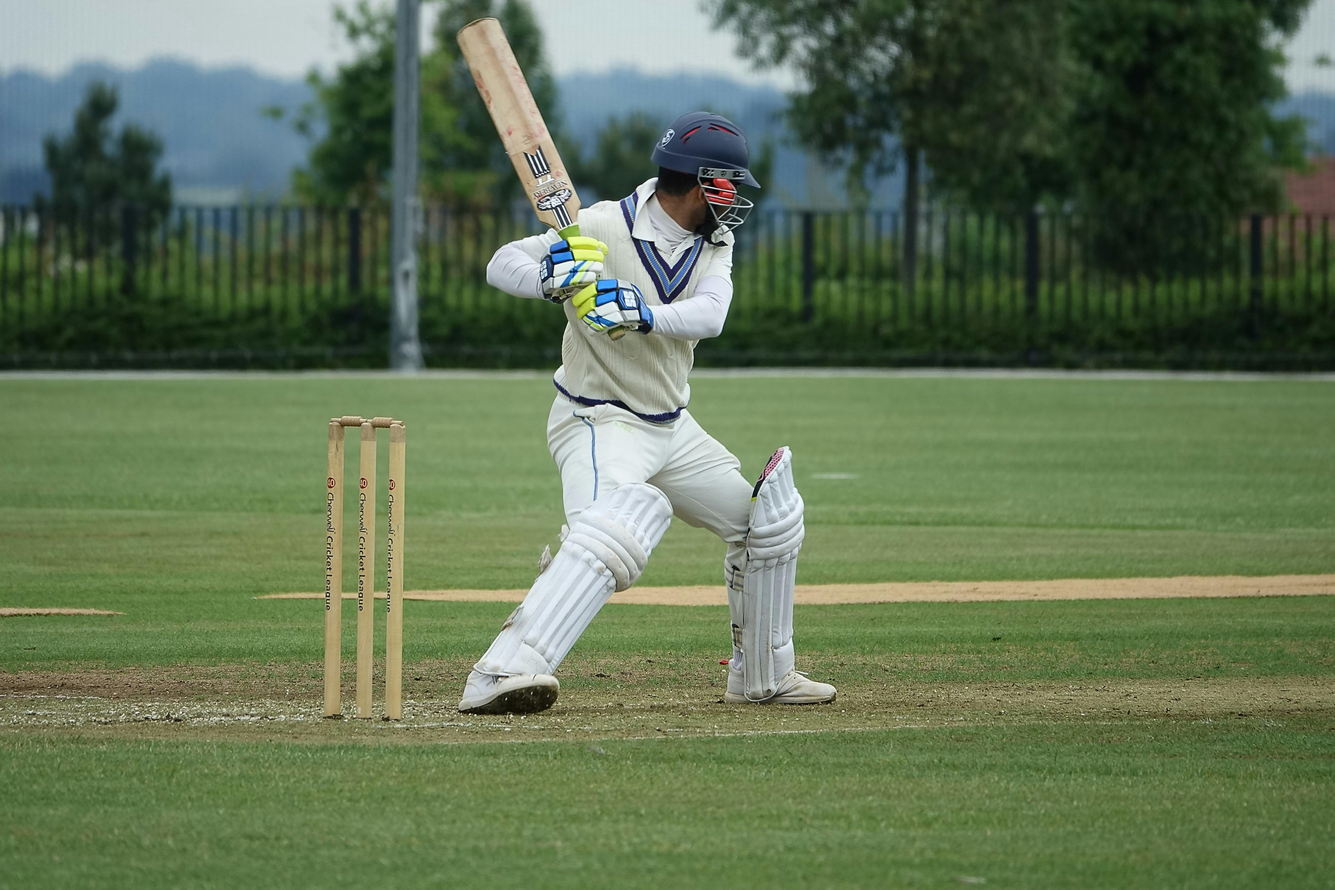batsman: (473, 95, 896, 729)
